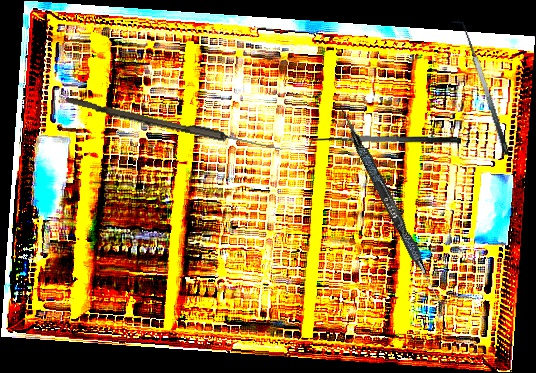Spatula Surgical: (331, 103, 452, 313), (450, 15, 512, 160), (308, 131, 462, 157)
Surgical Spoon: (64, 97, 284, 154)
